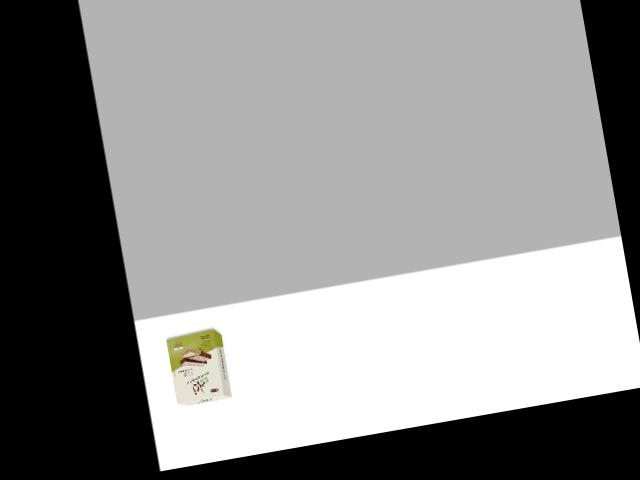chocolate: (164, 325, 236, 408)
